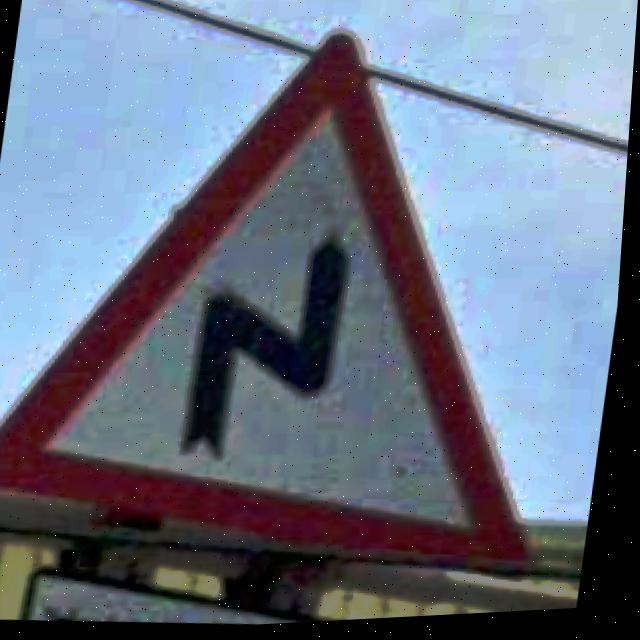doublebendright: (0, 36, 542, 578)
